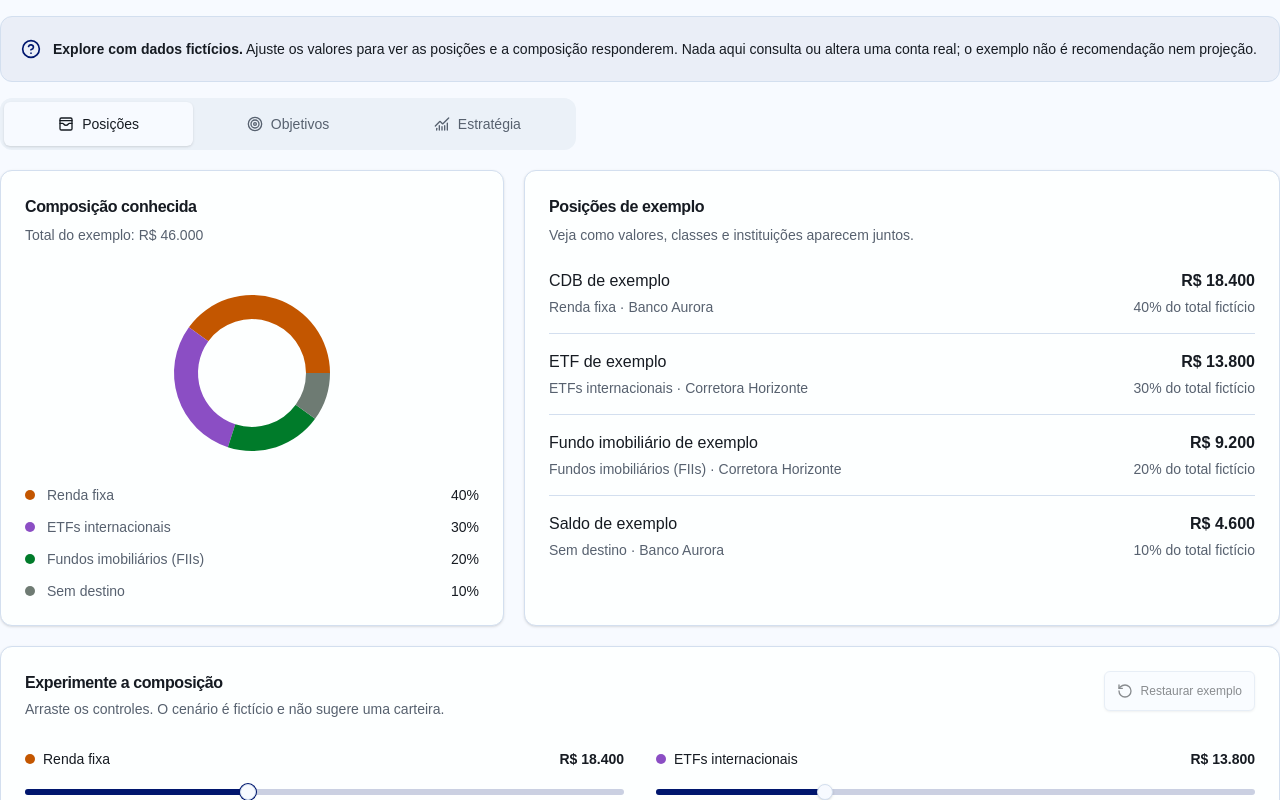
Test: PortfolioDemo › supports a zero-value scenario and restores the initial fictional values
This screenshot has width=1280, height=800.
(page scrolled)
Press Home
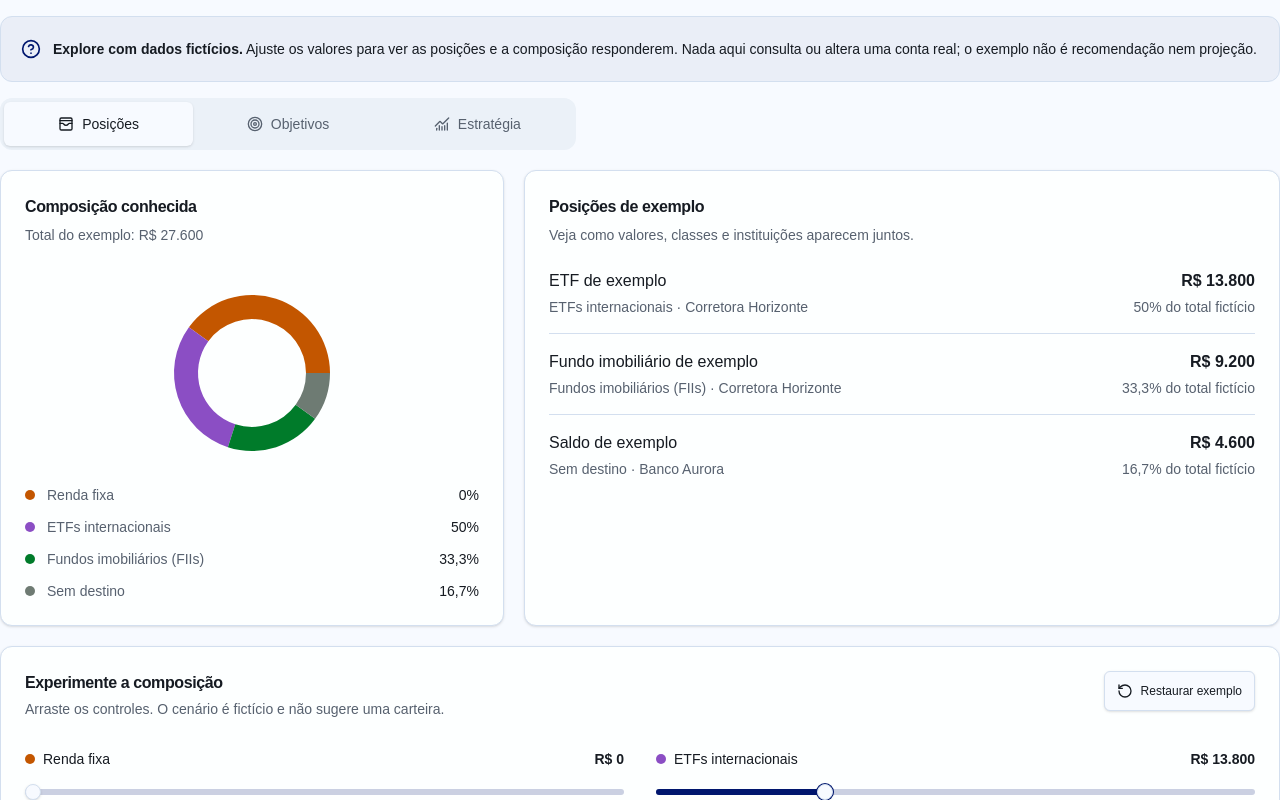
Press Home
(page scrolled)
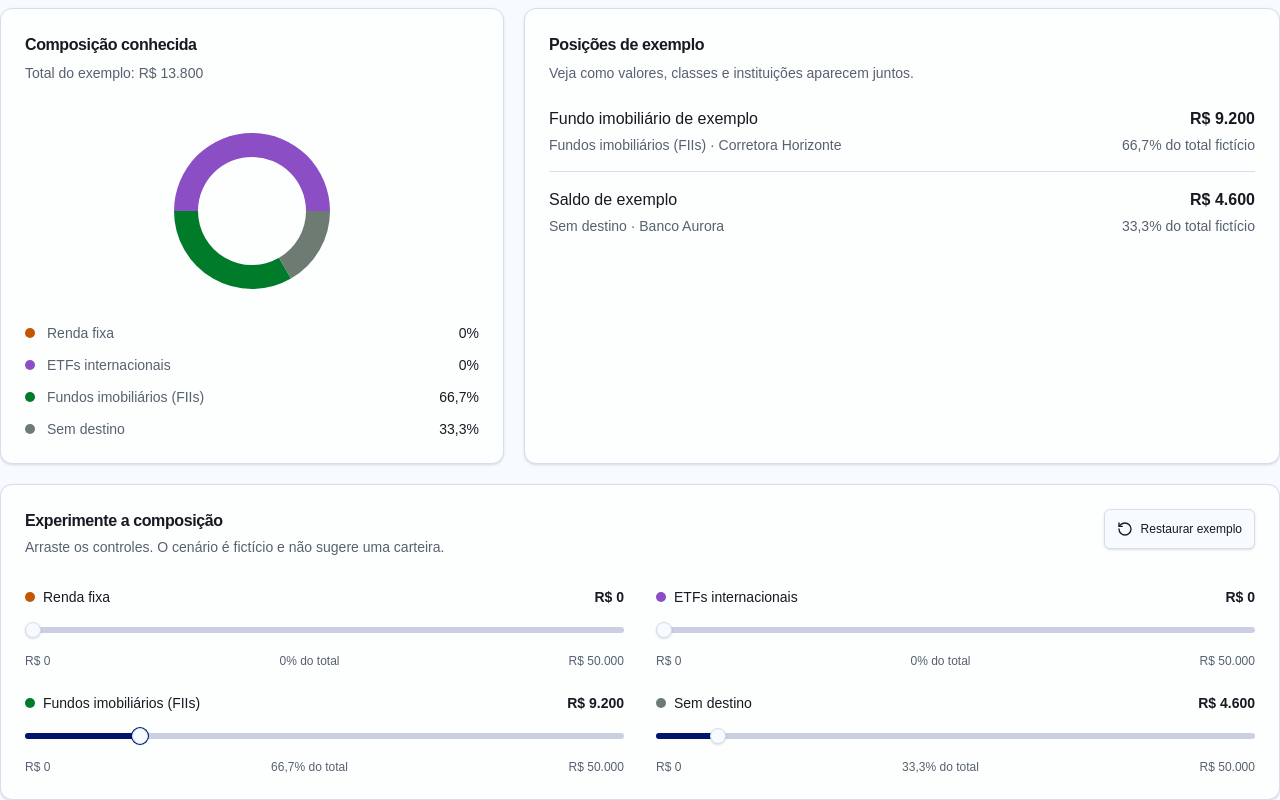
Press Home
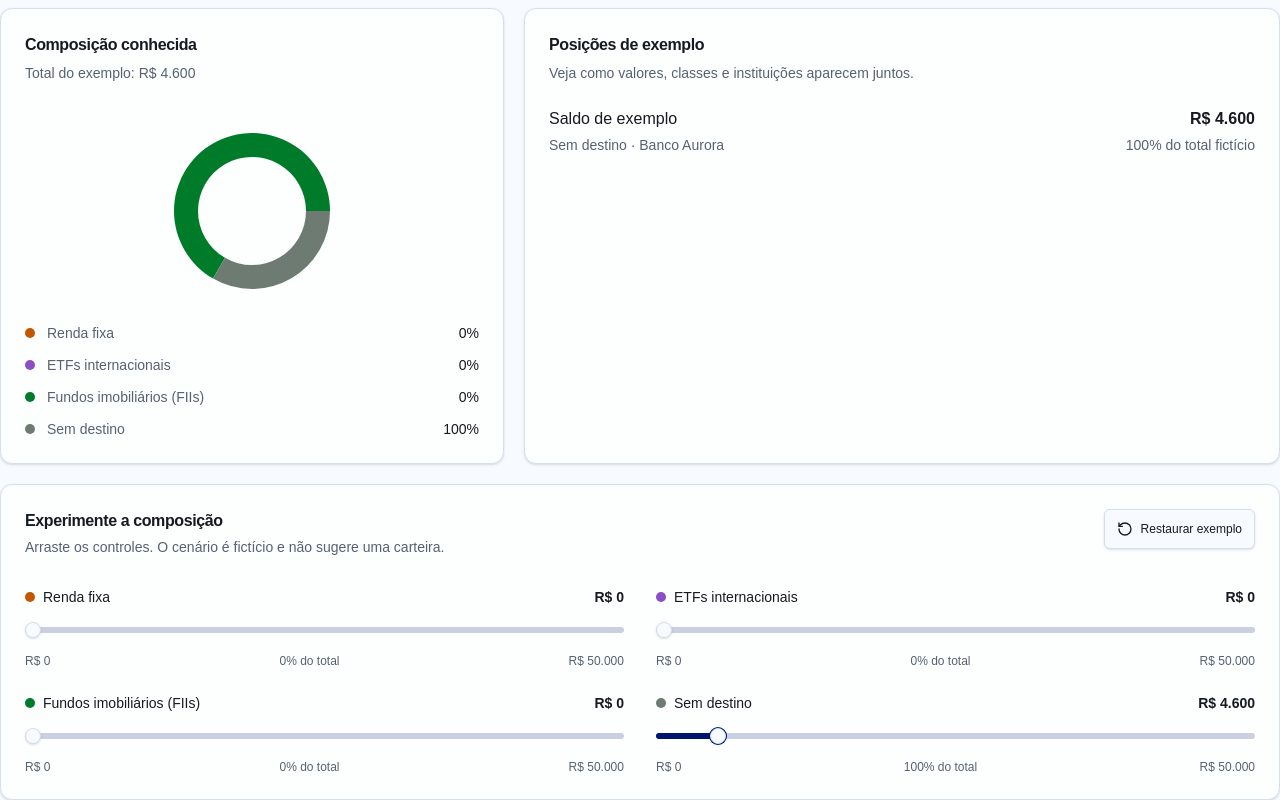
Press Home
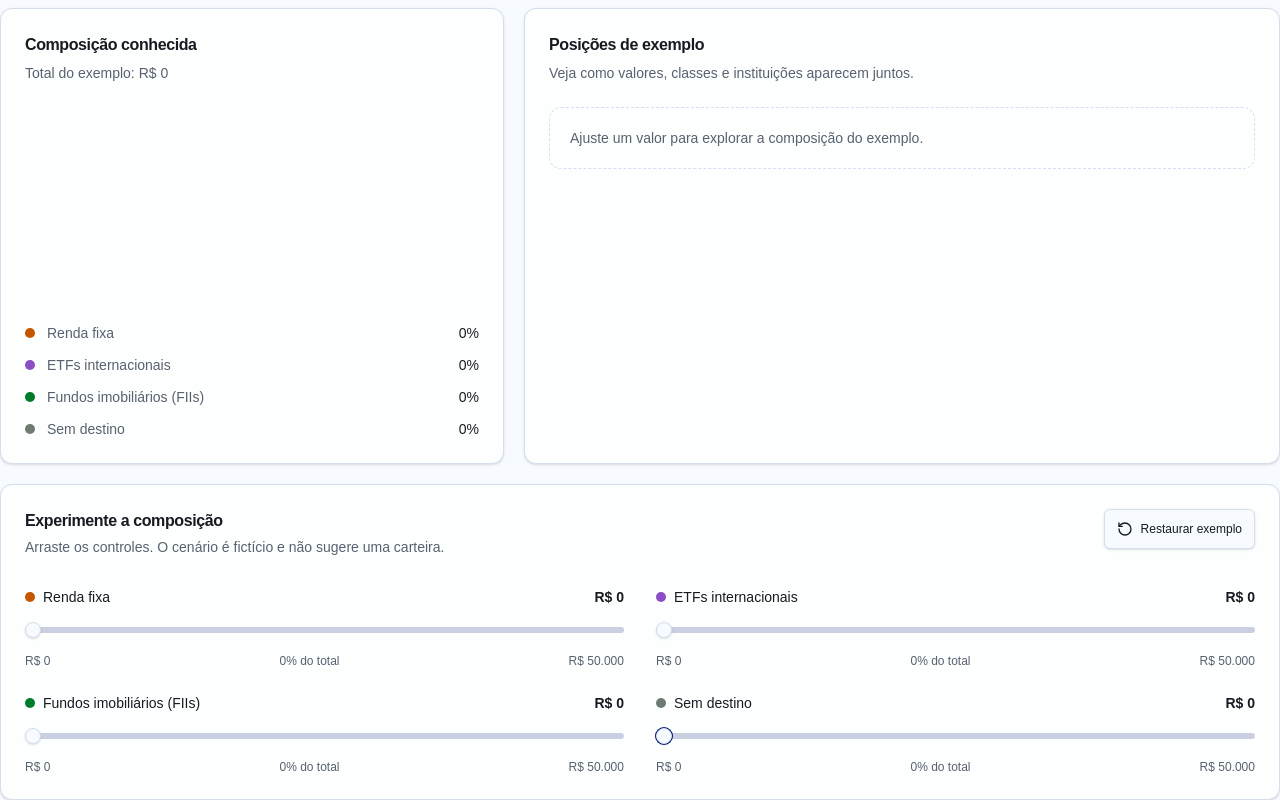
expect the text "CDB de exemplo" is not shown: met
expect the text "Total do exemplo: R$ 0" is shown: met, box [25, 65, 168, 81]
expect the text "Ajuste um valor para explorar a composição do exemplo." is shown: met, box [549, 107, 1255, 169]
Click the button "Restaurar exemplo".
click(1179, 529)  # box [1104, 509, 1255, 549]
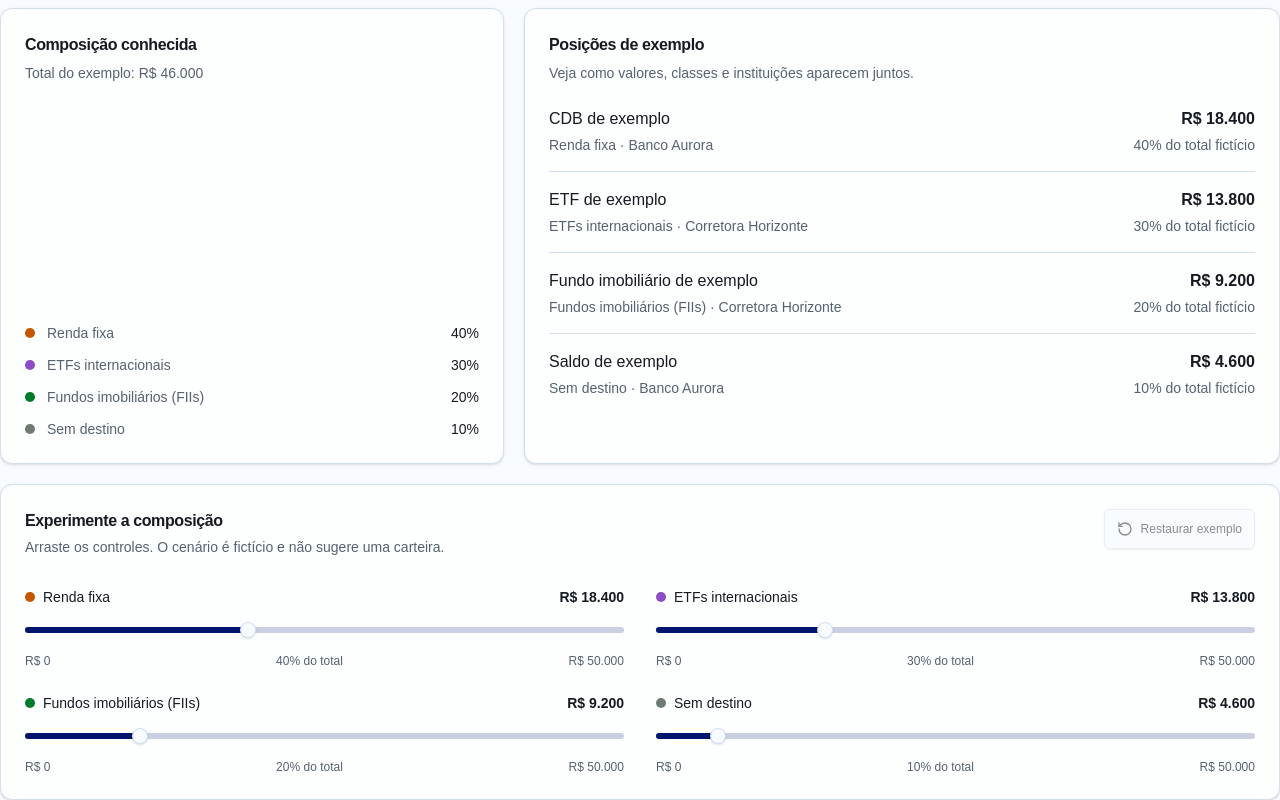
expect the text "Total do exemplo: R$ 46.000" is shown: met, box [25, 65, 203, 81]
expect the text "CDB de exemplo" is shown: met, box [549, 110, 670, 127]
